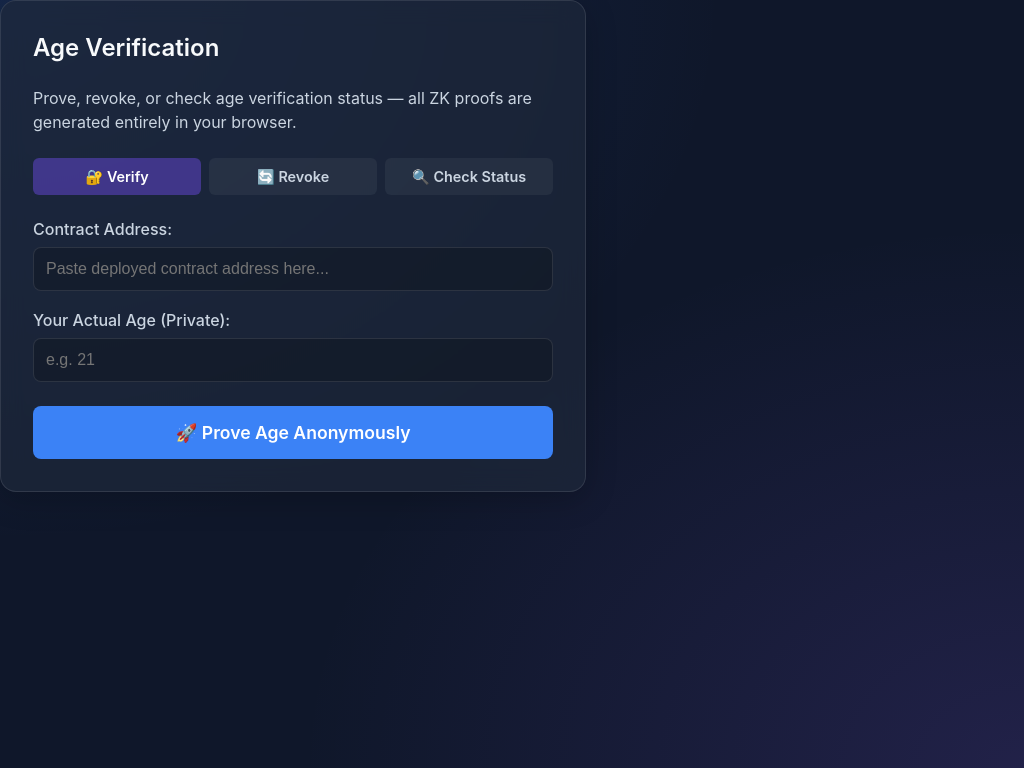
Scenario: OneClickVerify Component › starts verification process when contract address and age are both entered
Type "abc123def456" into the field with placeholder "Paste deployed contract address here...".
click(293, 269); type("abc123def456")  # box [33,247,553,291]
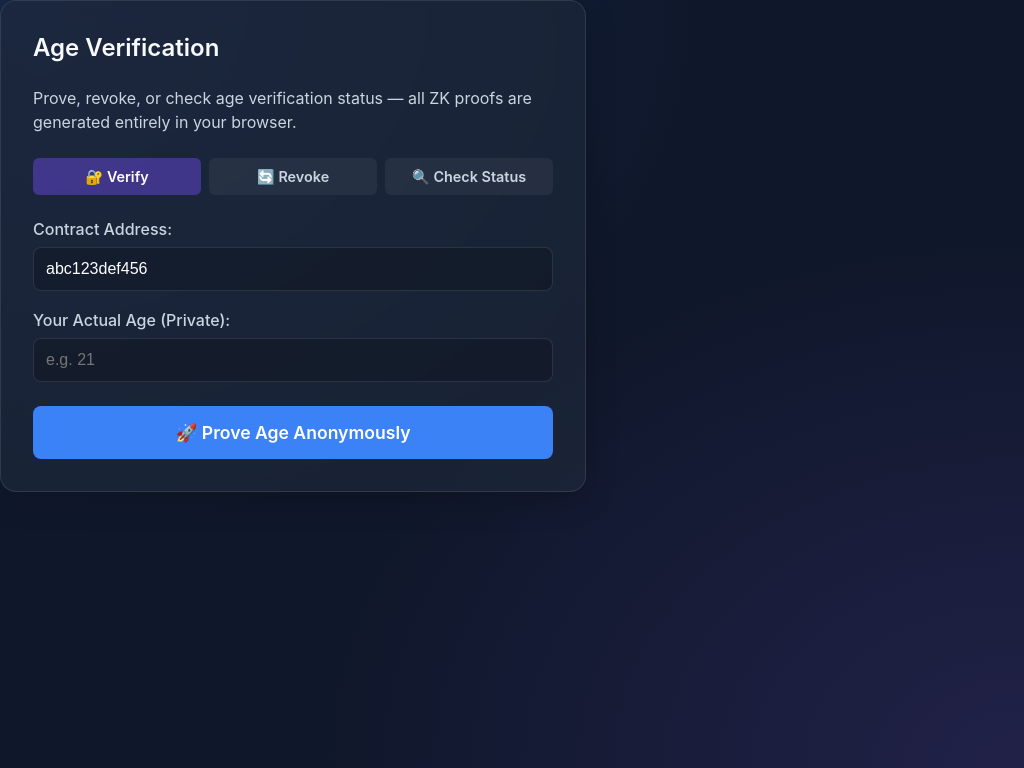
Type "25" into the number field with placeholder "e.g. 21".
click(293, 360); type("25")  # box [33,338,553,382]
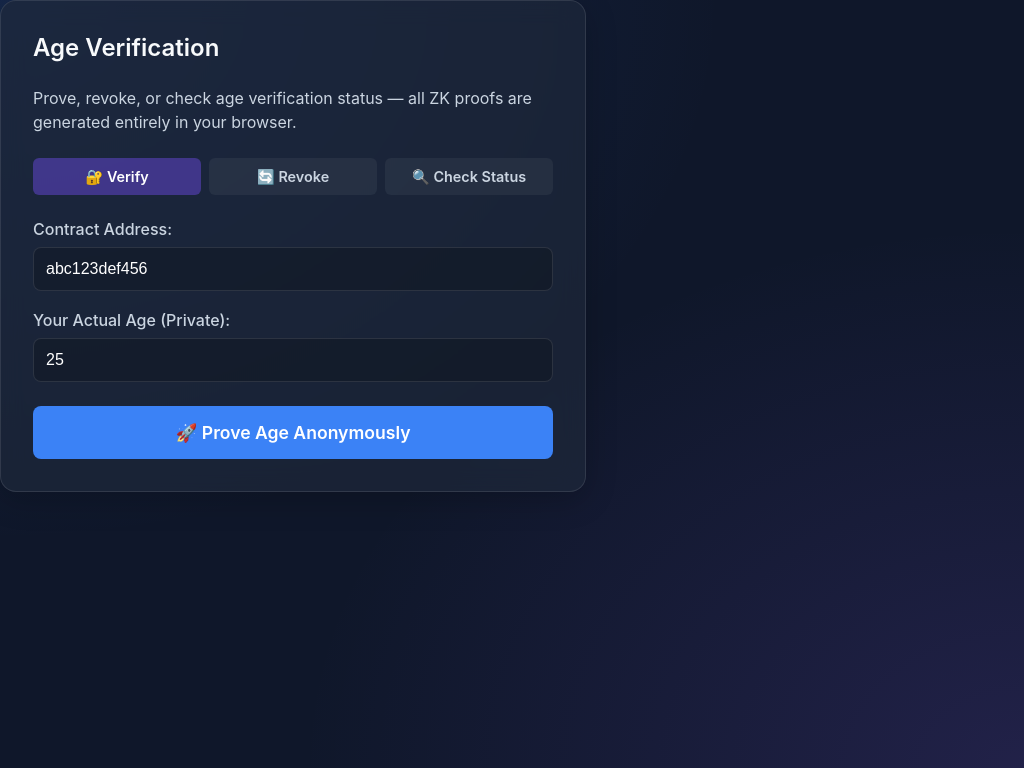
Click the button "🚀 Prove Age Anonymously".
click(293, 433)  # box [33,406,553,459]
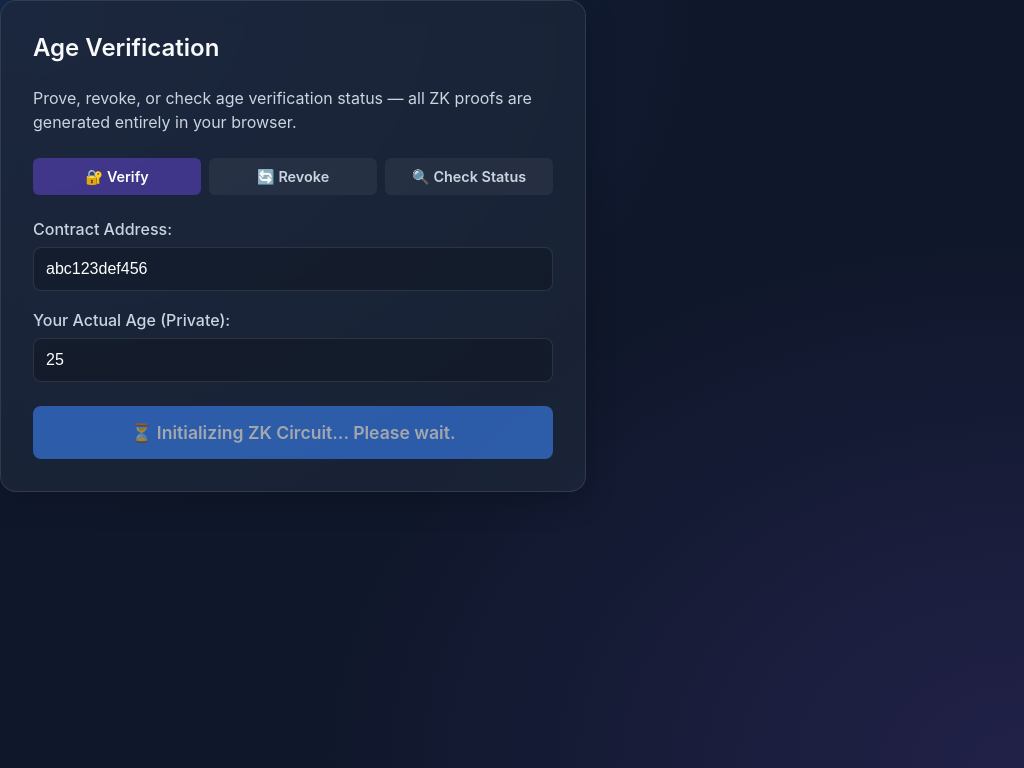
Check: the text "⏳ Initializing ZK Circuit... Please wait." is shown, box [130,422,456,443]
Check: the button named "Prove Age Anonymously" is disabled, box [33,406,553,459]
